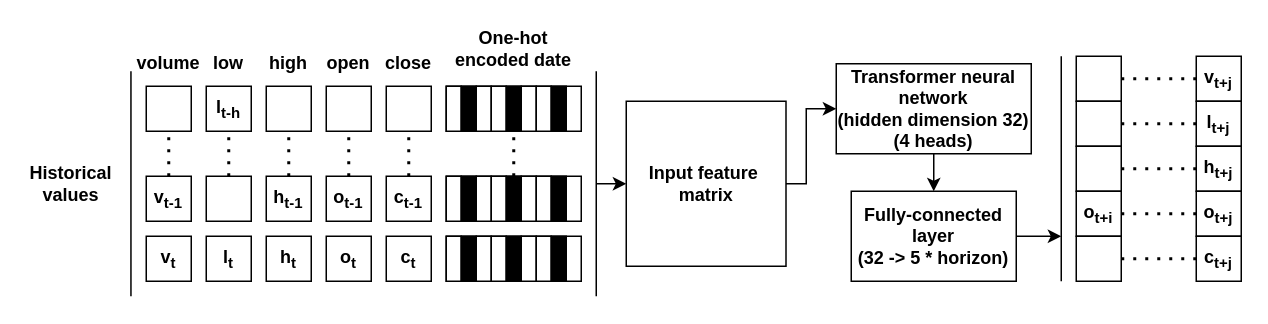
The diagram is 1268 pixels wide and 324 high, and some of its shapes have lost their labels. The shapes that lost their labels are listed below. From the top down, each one's centre as x and y in pixels, then its label:
At (1098,78): "v t+i".
At (168,108): "v t-h".
At (288,108): "h t-h".
At (348,108): "o t-h".
At (408,108): "c t-h".
At (1098,123): "l t+i".
At (1098,168): "h t+i".
At (228,198): "l t-1".
At (1098,258): "c t+i".
